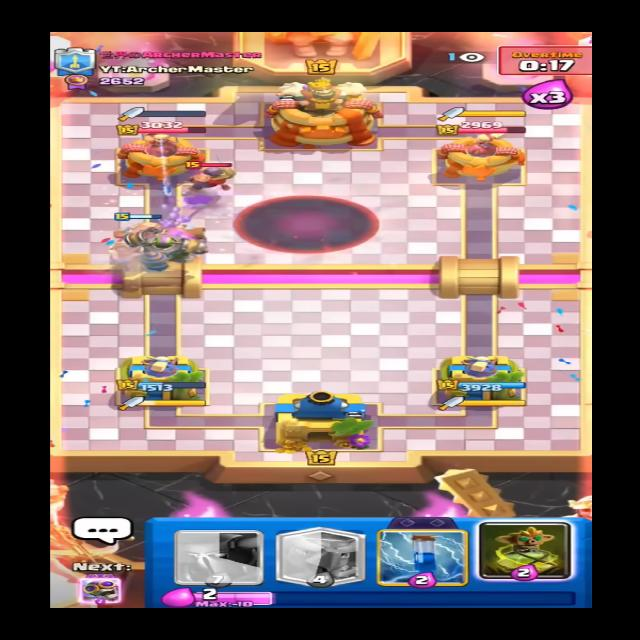Knight: (182, 160, 249, 199)
